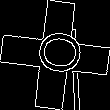O_W: (27, 30, 83, 80)
